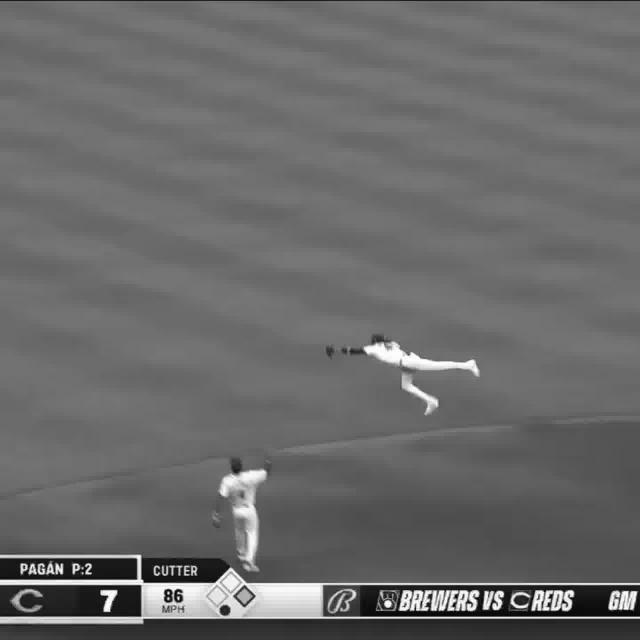baseball_glove: (206, 509, 222, 530), (328, 347, 340, 356)
shoe: (467, 356, 487, 384), (240, 558, 265, 576), (424, 400, 437, 416)
